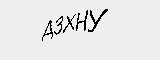Д: (39, 17, 54, 43)
З: (54, 14, 65, 39)
Н: (75, 7, 89, 37)
У: (86, 7, 109, 35)
Х: (61, 10, 78, 37)
